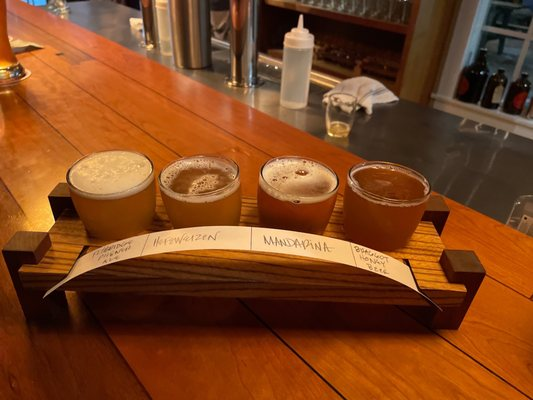pizza: (66, 150, 157, 242), (342, 161, 432, 253), (322, 91, 358, 146)
sushi: (159, 155, 242, 227)
